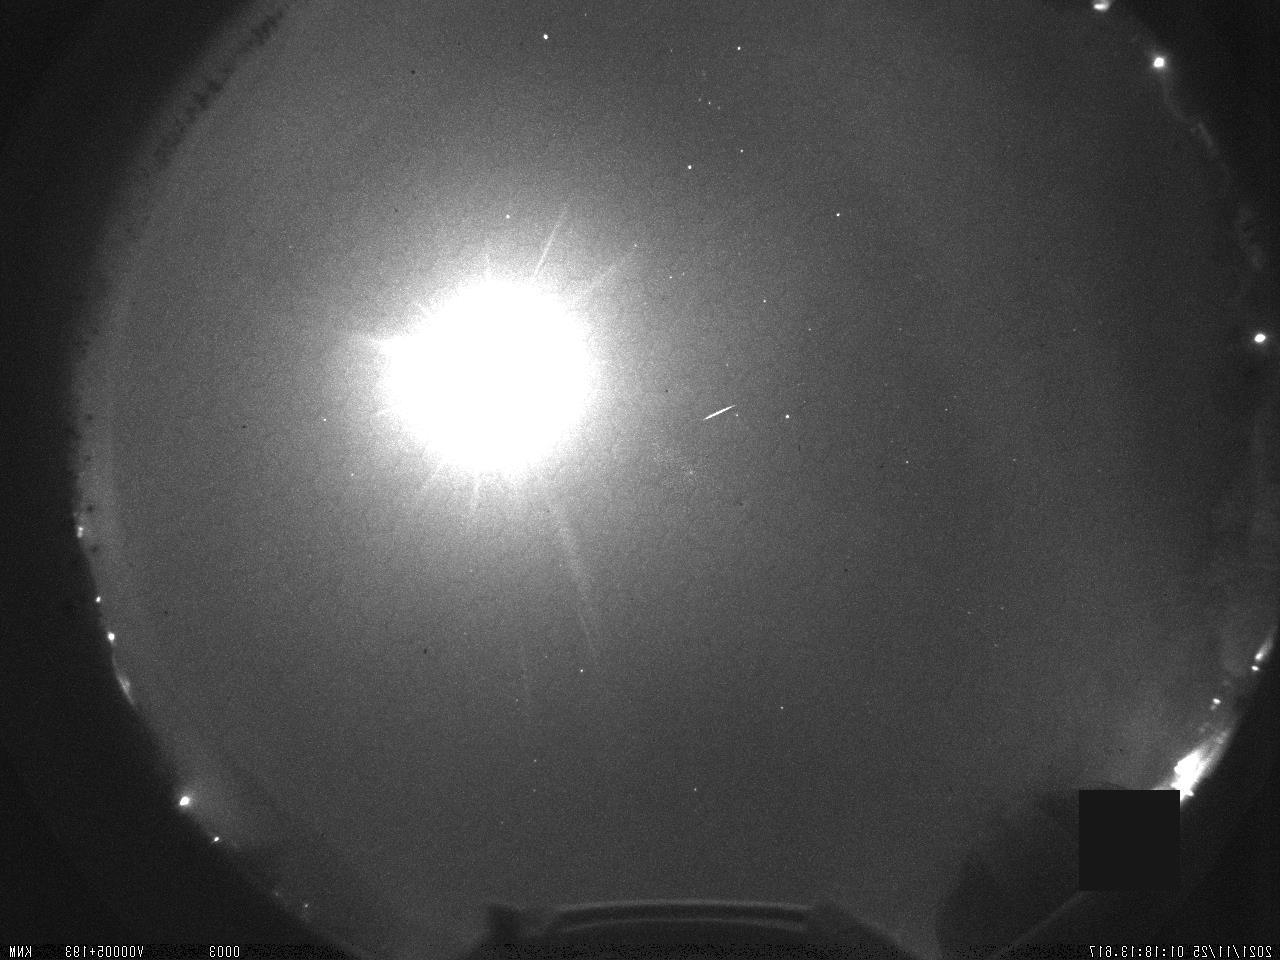meteor: (692, 398, 747, 432)
